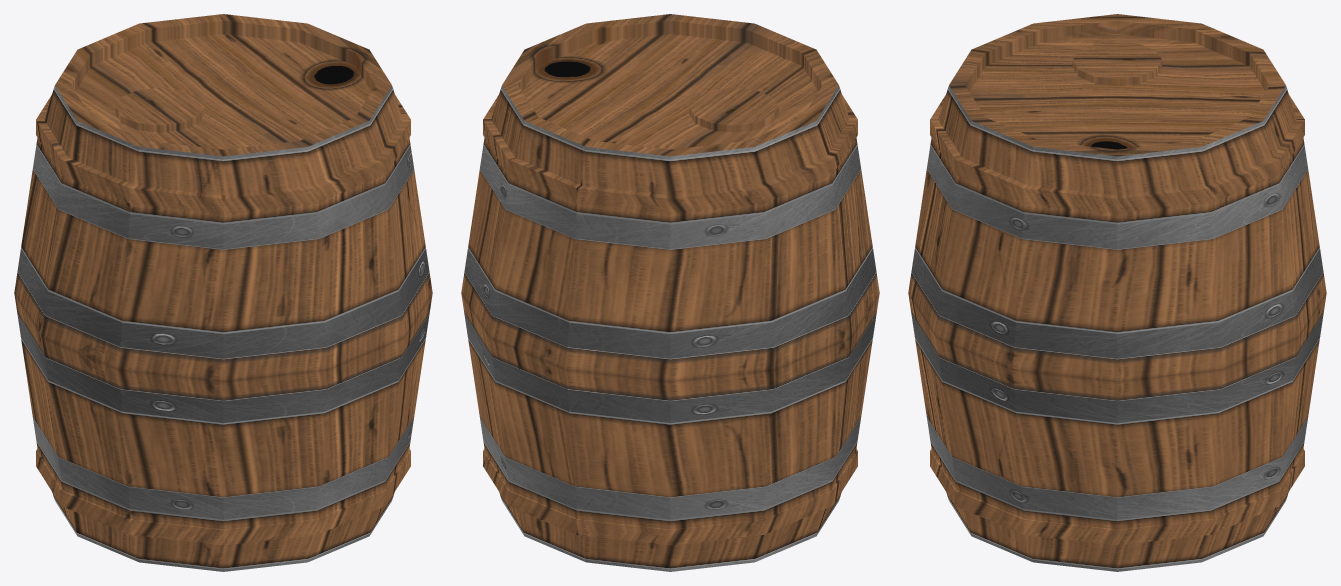
The model's file is barrel (wood)glb.glb.
3 views of the same model, side by side, from view 1: azimuth 30°, elevation 25°; view 2: azimuth 150°, elevation 25°; view 3: azimuth 270°, elevation 25° (orthographic).
Visible parts, largest first — view 1: Barrel; view 2: Barrel; view 3: Barrel.
Boxes of the visible parts, left/top/right/bottom form: Barrel: left=14, top=14, right=432, bottom=571; Barrel: left=461, top=14, right=879, bottom=571; Barrel: left=908, top=14, right=1326, bottom=571.
Size of the model in its own units: 0.9979 by 1.09 by 0.9979.
1 material, 1 textured.
